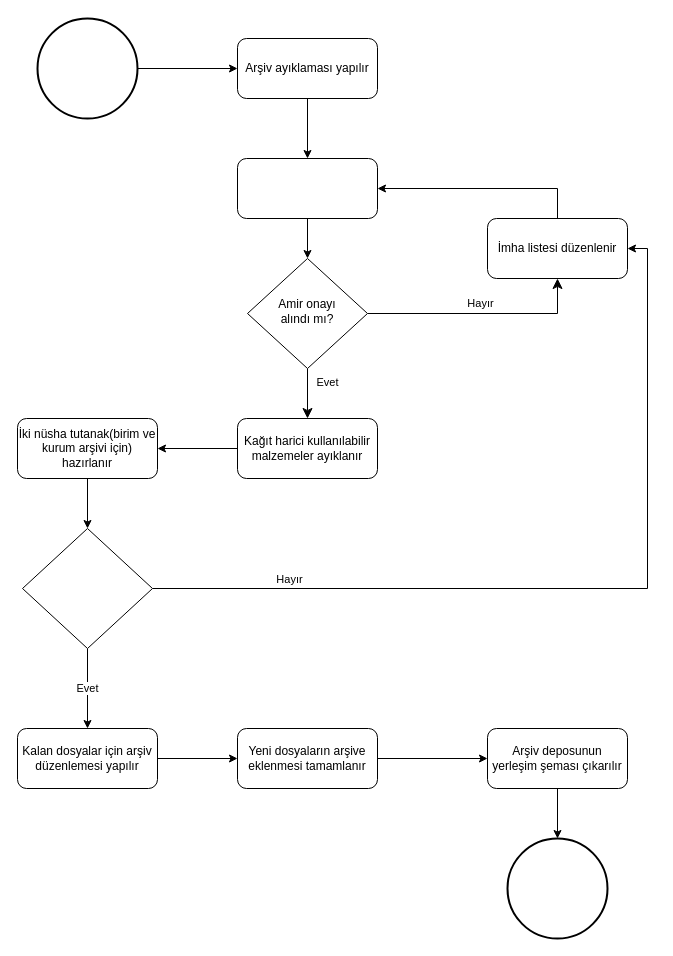
Some shapes in this 673 by 956 pixel diagram are drawn without their labels. Here are the shapes that lost their labels. From the top down, the centre of each, then its label:
(87,68): Start
(307,188): İmha listesi hazırlanır
(87,588): İmha komisyonları imzaladı mı?
(557,888): End
